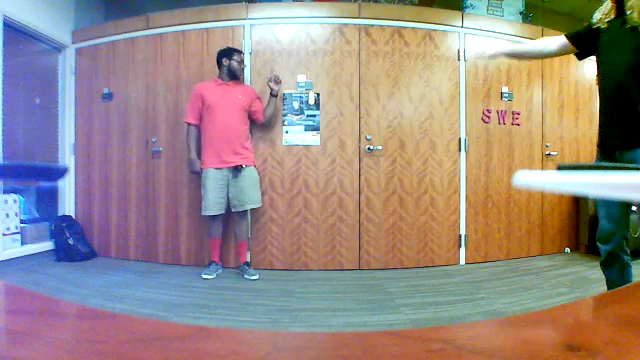up: (263, 64, 282, 96)
